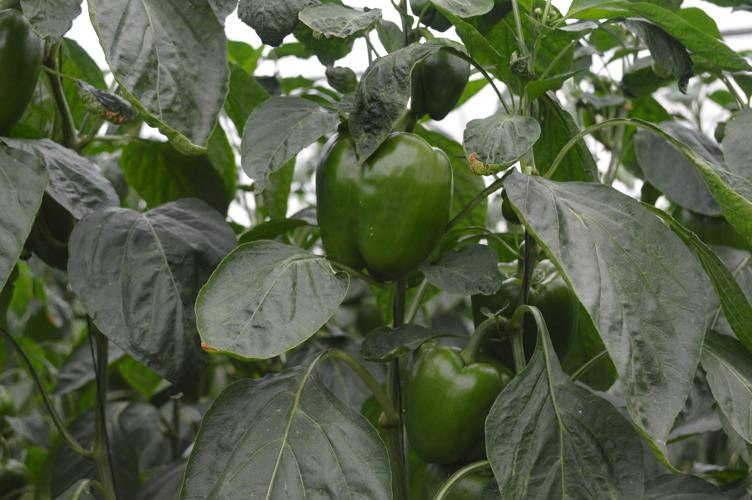BellPepper: (317, 134, 454, 279), (402, 352, 509, 459), (470, 260, 575, 369)
